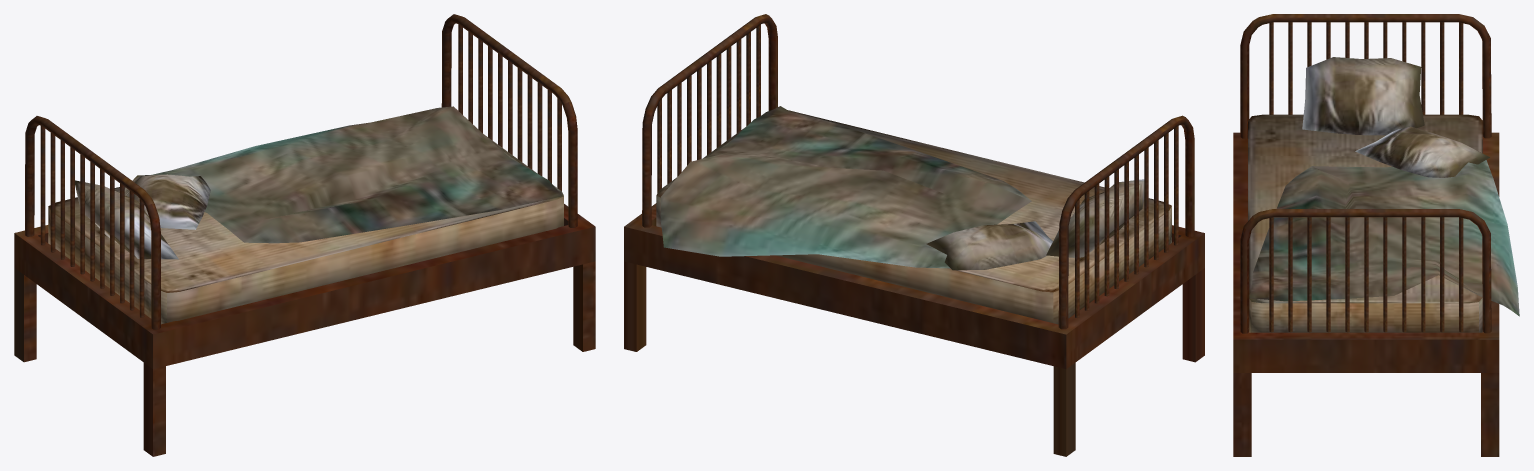
The model's file is roach_bed.FBX.
3 renders of one model, left to right at view 1: azimuth 30°, elevation 25°; view 2: azimuth 150°, elevation 25°; view 3: azimuth 270°, elevation 25°, orthographic. The views are drawn at different scales.
Visible parts, largest first — view 1: Plane006; view 2: Plane006; view 3: Plane006.
Part boxes in pixels (x1=…): Plane006: x1=14, y1=14, x2=595, y2=456; Plane006: x1=624, y1=14, x2=1204, y2=456; Plane006: x1=1233, y1=14, x2=1519, y2=456.
Size of the model in its own units: 153 by 82.9 by 89.52.
